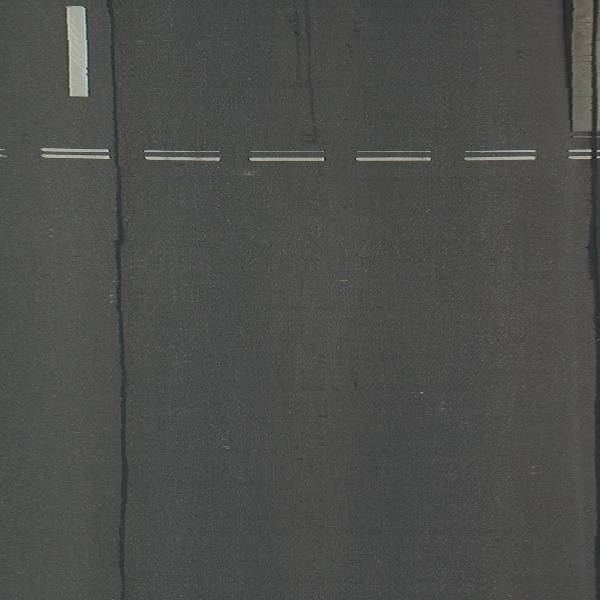road_damage: (107, 3, 133, 600)
